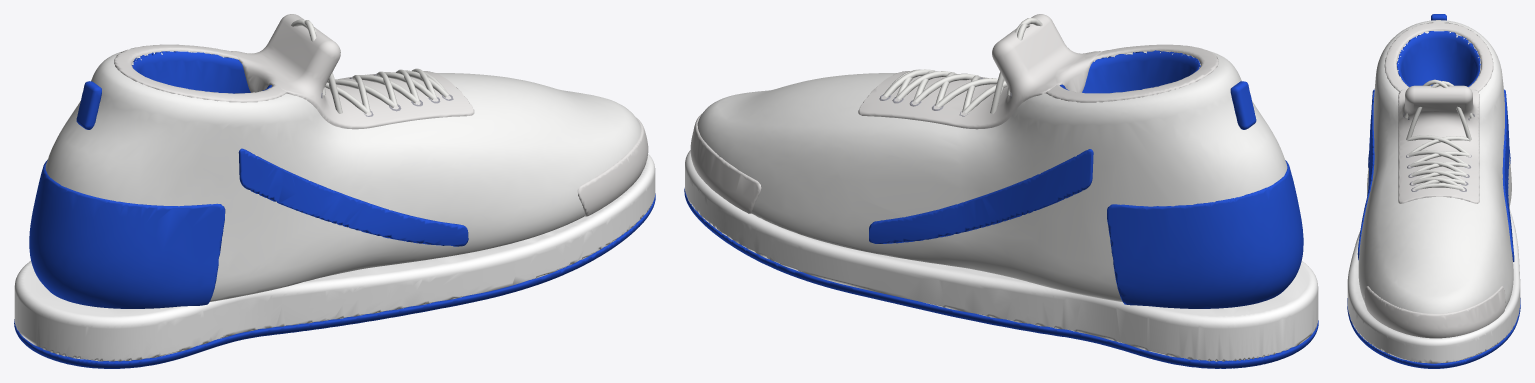
Rendered from courtvision-elite.glb.
3 renders of one model, left to right at view 1: azimuth 30°, elevation 25°; view 2: azimuth 150°, elevation 25°; view 3: azimuth 270°, elevation 25°, orthographic. The views are drawn at different scales.
Visible parts, largest first — view 1: upper, midsole, heel_counter, collar, outsole, lining, object 7; view 2: upper, midsole, heel_counter, collar, outsole, lining, object 7; view 3: upper, collar, midsole, lining, object 7, heel_counter, outsole, object 8.
Part boxes in pixels (x1,y1,x2,y2): upper: (45,51,641,301); midsole: (14,154,655,361); heel_counter: (29,81,468,308); collar: (114,14,648,216); outsole: (14,193,655,368); lining: (132,51,271,93); object 7: (291,19,449,113); upper: (697,51,1287,302); midsole: (685,150,1318,361); heel_counter: (869,81,1303,308); collar: (690,14,1218,213); outsole: (684,188,1318,368); lining: (1060,50,1200,93); object 7: (883,18,1042,113); upper: (1358,20,1513,313); collar: (1364,22,1505,338); midsole: (1347,210,1520,363); lining: (1396,31,1480,86); object 7: (1404,79,1473,190); heel_counter: (1357,14,1514,261); outsole: (1347,298,1520,368); object 8: (1403,113,1474,191).
Size of the model in its own units: 0.9864 by 0.4024 by 0.3414.
